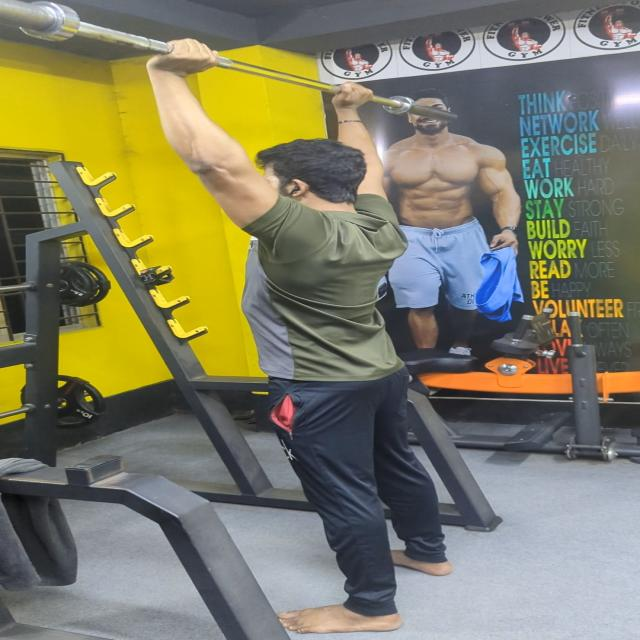Normal_OverheadPress: (121, 27, 466, 612)
